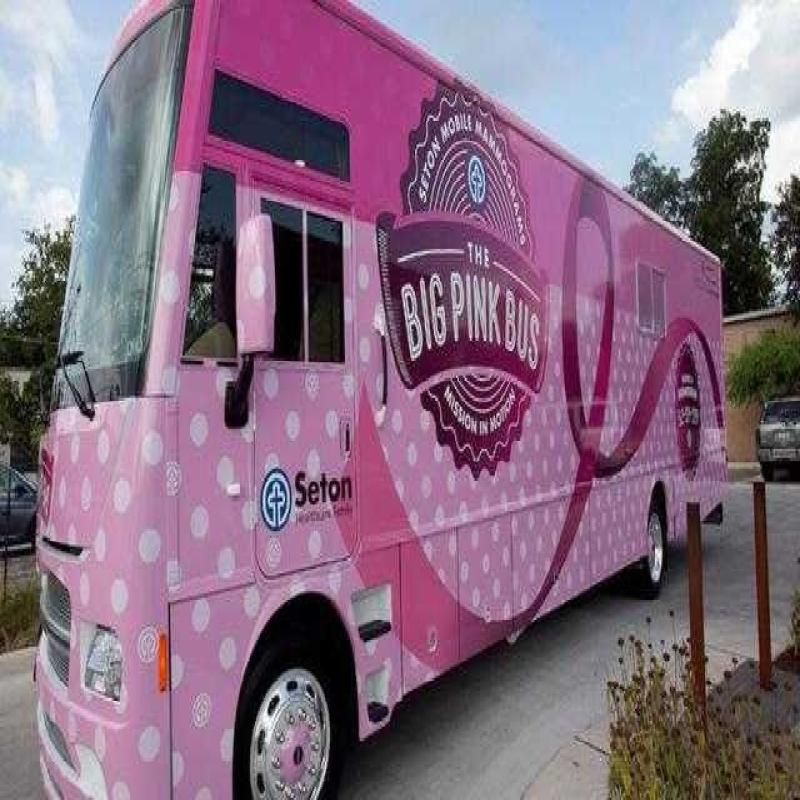bus: (33, 4, 760, 757)
